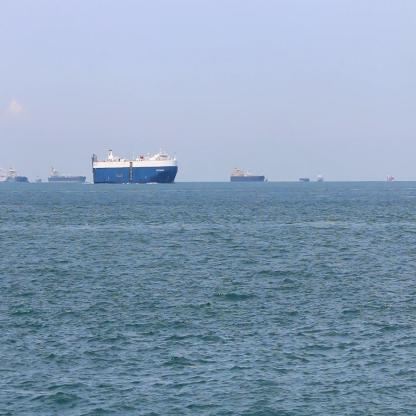Container Ship: (90, 152, 178, 184), (227, 164, 264, 183), (46, 167, 86, 182), (6, 164, 29, 188), (0, 168, 10, 185), (314, 171, 325, 185), (385, 170, 395, 184), (298, 176, 310, 184)
